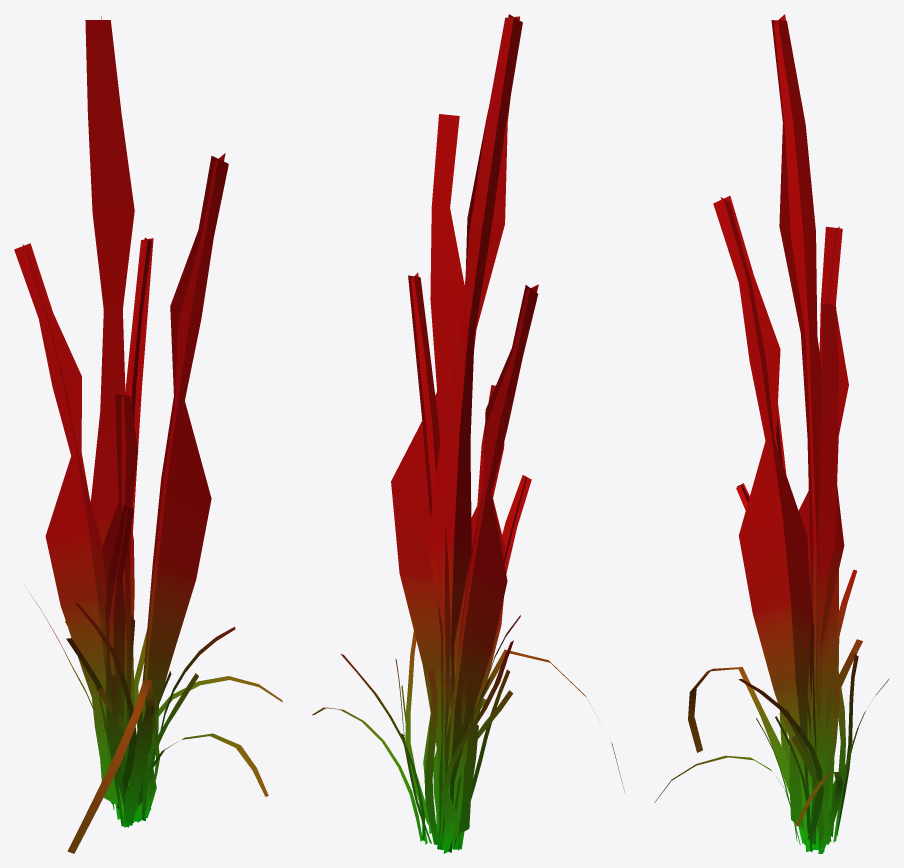
File: Var3_LOD1.fbx
The picture shows the model from 3 angles, left to right: view 1: azimuth 30°, elevation 25°; view 2: azimuth 150°, elevation 25°; view 3: azimuth 270°, elevation 25°; orthographic projection. The views are drawn at different scales.
Parts seen in each view (by area): view 1: _8f74_Var3_LOD1; view 2: _8f74_Var3_LOD1; view 3: _8f74_Var3_LOD1.
Part boxes in pixels (x1=…): _8f74_Var3_LOD1: x1=14, y1=16, x2=282, y2=853; _8f74_Var3_LOD1: x1=312, y1=14, x2=624, y2=853; _8f74_Var3_LOD1: x1=654, y1=14, x2=889, y2=853.
Size of the model in its own units: 23.04 by 69.24 by 18.3.
